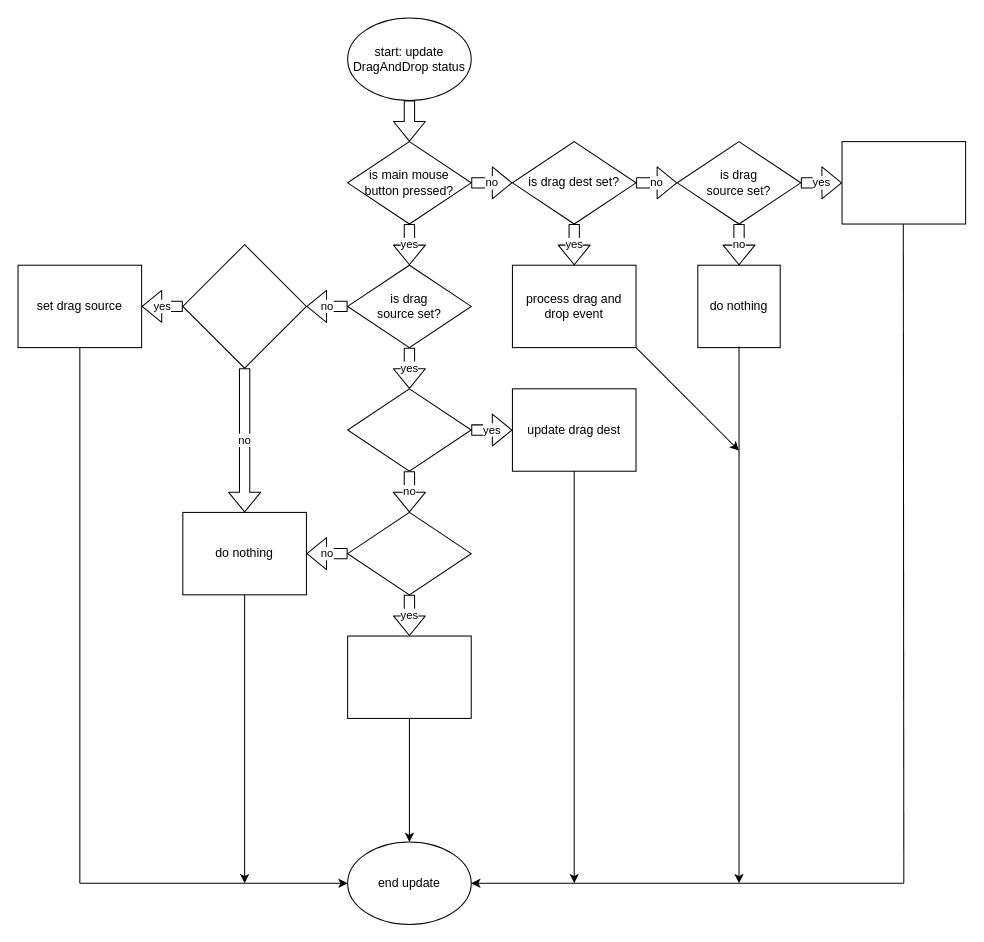
Some shapes in this 984 by 942 pixel diagram are drawn without their labels. The shapes that lost their labels are listed below. From the top down, each one's box as (x1, y1, x2, y2) in pixels, then its label:
(841, 141, 966, 224): clear/reset drag and drop state
(182, 244, 306, 368): is mouse over draggable widget?
(347, 388, 471, 471): is drag event active?
(347, 511, 471, 595): is mouse dragging?
(347, 635, 471, 718): start drag event
